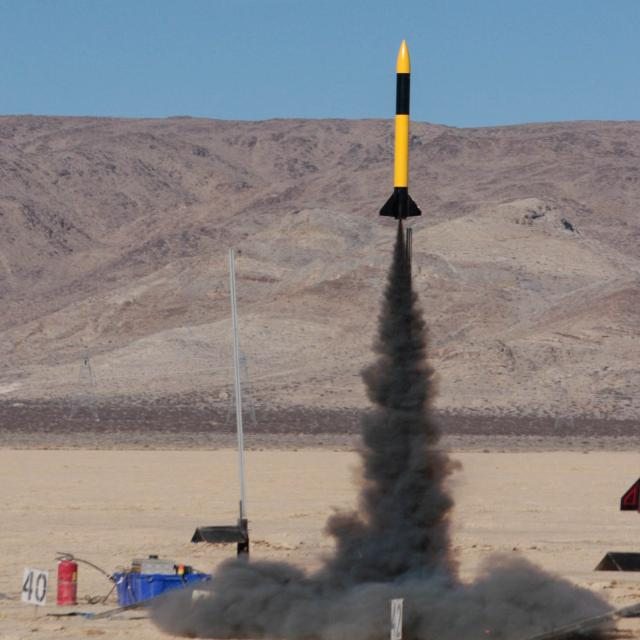Rocket: (377, 37, 424, 220)
